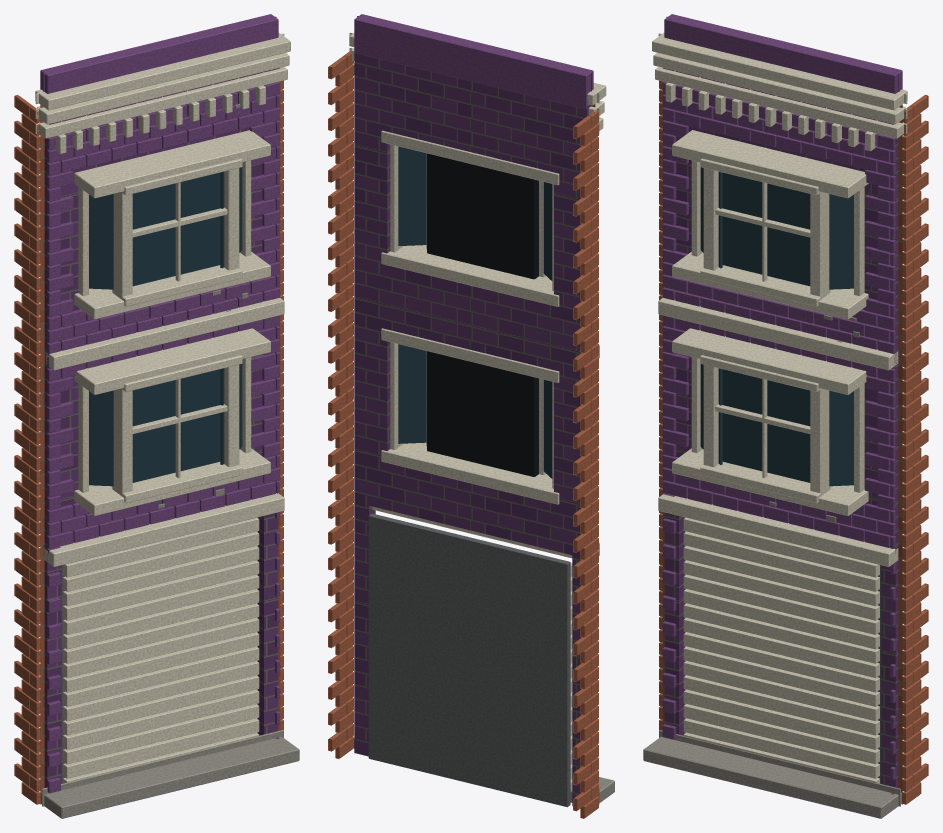
Rendered from VICT3B_lod0.glb.
3 views of the same model, side by side, from view 1: azimuth 30°, elevation 25°; view 2: azimuth 150°, elevation 25°; view 3: azimuth 330°, elevation 25° (orthographic).
Visible parts, largest first — view 1: VICT3B_FRONT_LOD0; view 2: VICT3B_FRONT_LOD0; view 3: VICT3B_FRONT_LOD0.
Boxes of the visible parts, x1,y1,x2,y2 form: VICT3B_FRONT_LOD0: (14, 14, 299, 818); VICT3B_FRONT_LOD0: (328, 14, 614, 818); VICT3B_FRONT_LOD0: (643, 14, 928, 818).
Size of the model in its own units: 3.44 by 9.66 by 1.11.
Materials: 13 (11 with a texture image).
